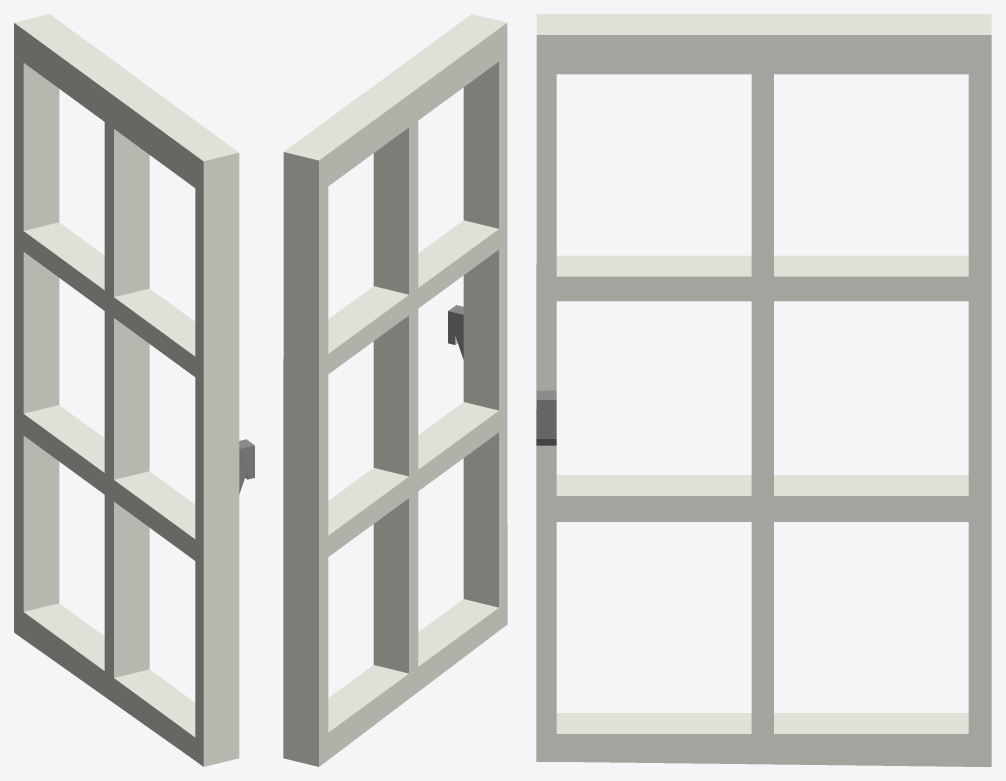
File: Window_Door_2.fbx
The picture shows the model from 3 angles, left to right: view 1: azimuth 30°, elevation 25°; view 2: azimuth 150°, elevation 25°; view 3: azimuth 270°, elevation 25°; orthographic projection. The views are drawn at different scales.
Parts seen in each view (by area): view 1: pCube5; view 2: pCube5; view 3: pCube5.
Part boxes in pixels (x1,y1,x2,y2): pCube5: (14, 14, 254, 766); pCube5: (283, 14, 507, 766); pCube5: (536, 14, 991, 766).
Bounding box in the file's own units: 1.44 × 16.34 × 9.21.
